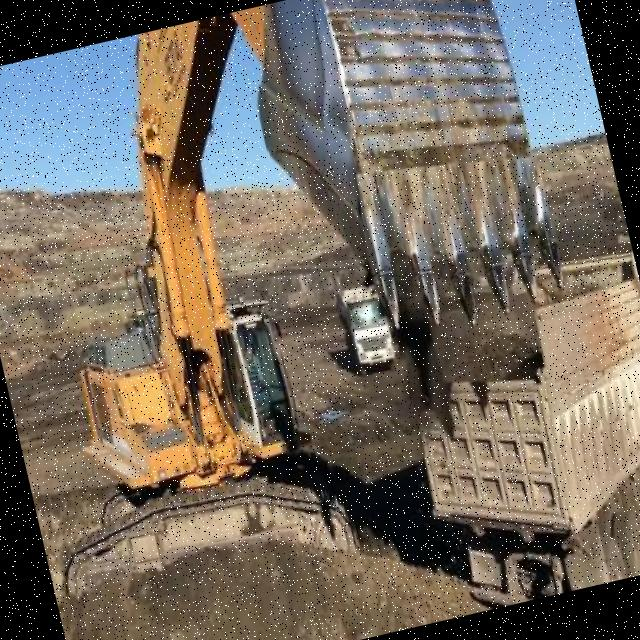Dump Truck: (391, 244, 640, 615), (328, 272, 397, 372)
Excavator: (0, 0, 615, 614)
